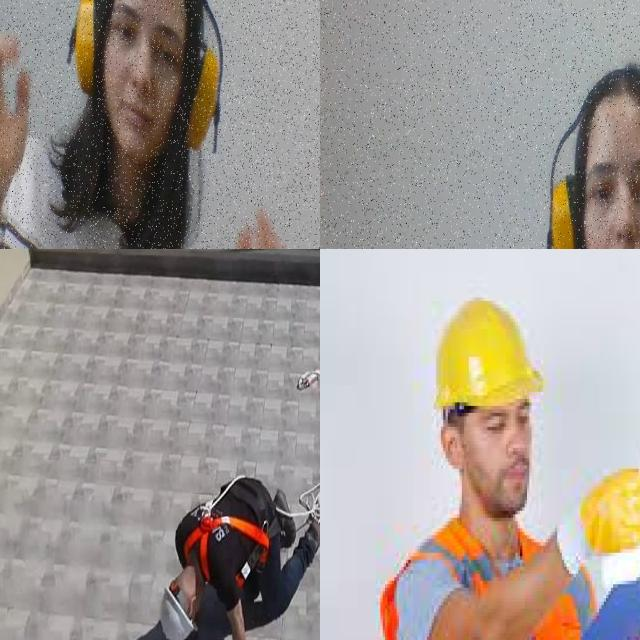Ear-protection: (51, 0, 246, 207), (532, 53, 640, 249)
Harness: (183, 517, 269, 582)
No_Ear-Protection: (441, 428, 462, 468)
No_Glasses: (467, 401, 530, 454), (590, 152, 640, 218)
face_nomask: (462, 440, 529, 518)
hand_glove: (557, 474, 640, 575)
head_helmet: (435, 299, 544, 407)
